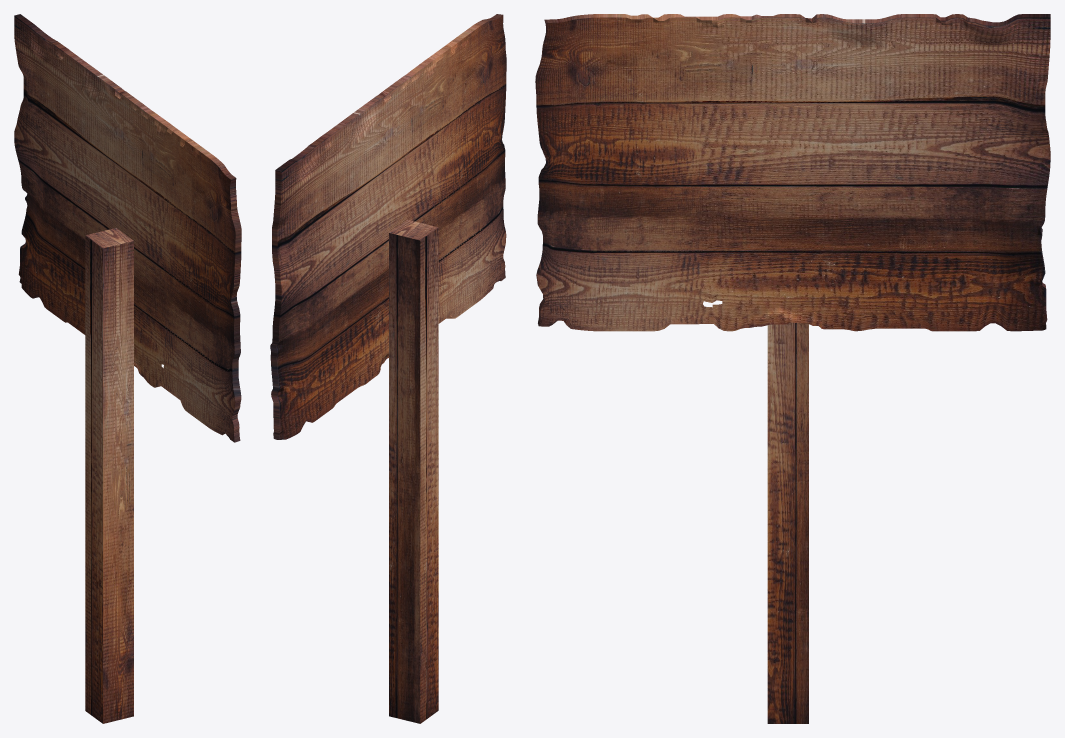
File: sign.glb
3 renders of one model, left to right at view 1: azimuth 30°, elevation 25°; view 2: azimuth 150°, elevation 25°; view 3: azimuth 270°, elevation 25°, orthographic. The views are drawn at different scales.
Parts seen in each view (by area): view 1: Plane_Plane.001, Cube_Cube.001; view 2: Plane_Plane.001, Cube_Cube.001; view 3: Plane_Plane.001, Cube_Cube.001.
Part boxes in pixels (<box>): Plane_Plane.001: <box>14,14,241,442</box>; Cube_Cube.001: <box>85,228,133,723</box>; Plane_Plane.001: <box>270,14,506,439</box>; Cube_Cube.001: <box>389,219,438,723</box>; Plane_Plane.001: <box>535,14,1050,331</box>; Cube_Cube.001: <box>767,322,808,723</box>.
Size of the model in its own units: 0.373 by 4.53 by 2.97.
2 materials, 2 textured.
